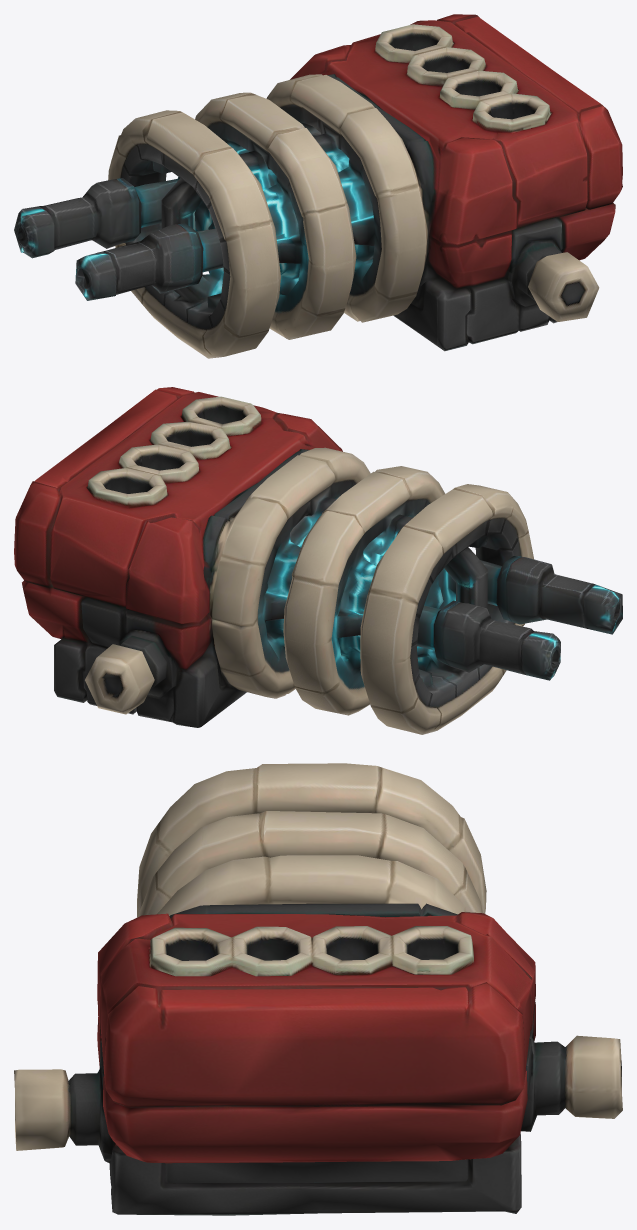
The model's file is lightning-coil.glb.
3 views of the same model, one above another, from view 1: azimuth 30°, elevation 25°; view 2: azimuth 150°, elevation 25°; view 3: azimuth 270°, elevation 25° (orthographic). The views are drawn at different scales.
Visible parts, largest first — view 1: tripo_node_828bdcc4-68fd-4a5d-91c4-1b572d0e9eaf; view 2: tripo_node_828bdcc4-68fd-4a5d-91c4-1b572d0e9eaf; view 3: tripo_node_828bdcc4-68fd-4a5d-91c4-1b572d0e9eaf.
Part boxes in pixels (<box>): tripo_node_828bdcc4-68fd-4a5d-91c4-1b572d0e9eaf: <box>14,14,622,358</box>; tripo_node_828bdcc4-68fd-4a5d-91c4-1b572d0e9eaf: <box>14,387,622,734</box>; tripo_node_828bdcc4-68fd-4a5d-91c4-1b572d0e9eaf: <box>14,763,622,1215</box>.
Size of the model in its own units: 0.9818 by 0.3857 by 0.8291.
1 material, 1 textured.
